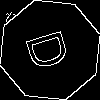D: (25, 25, 79, 73)
